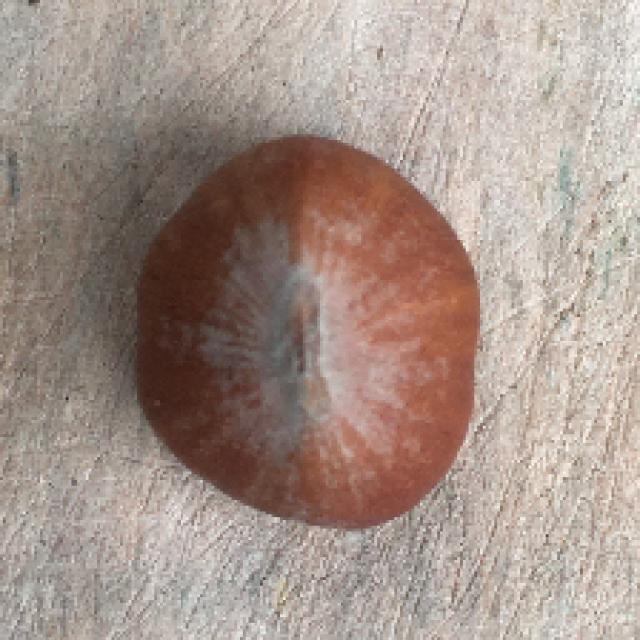qualityHazelnut: (135, 132, 480, 535)
